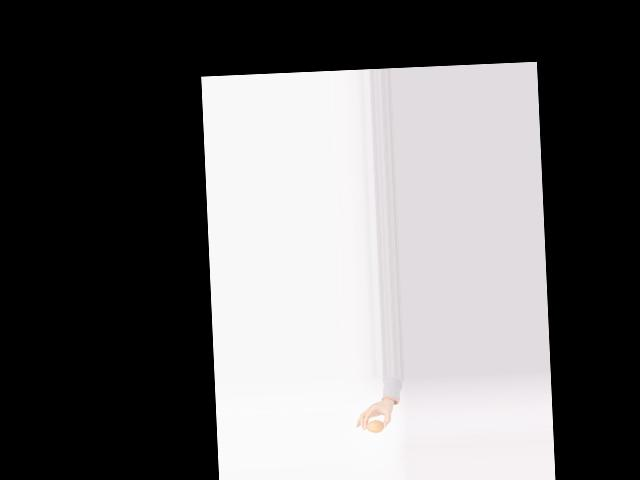egg: (366, 420, 384, 433)
